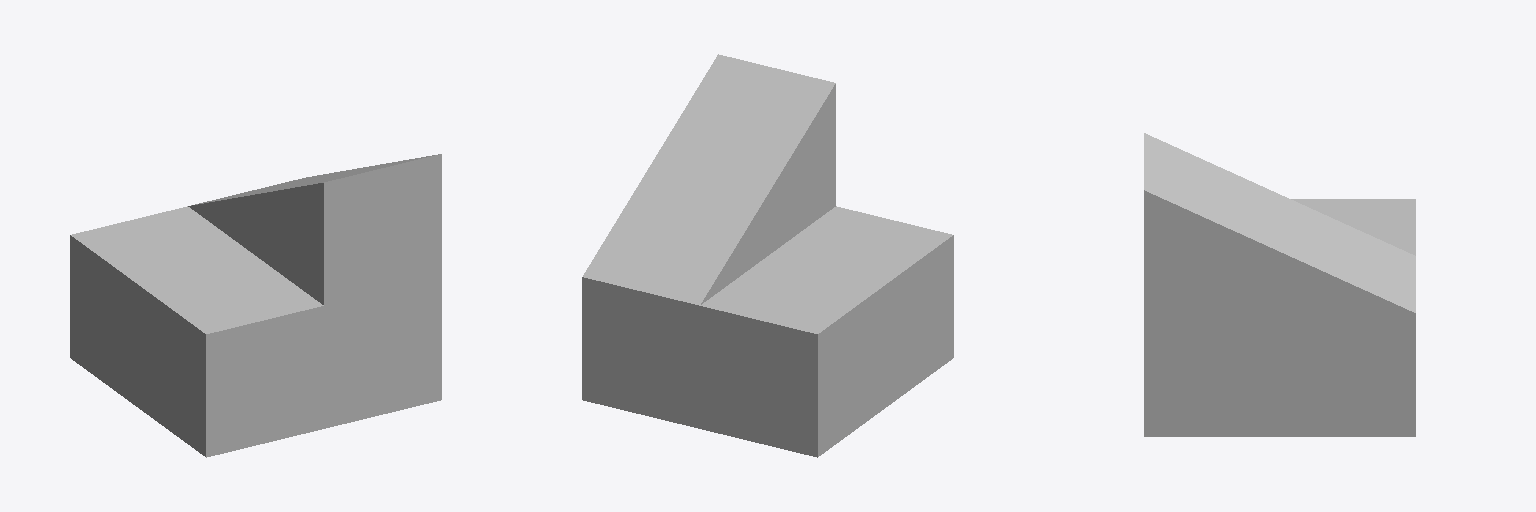
Rendered from diagsteps_52lv.obj.
3 renders of one model, left to right at view 1: azimuth 30°, elevation 25°; view 2: azimuth 150°, elevation 25°; view 3: azimuth 270°, elevation 25°, orthographic.
Size of the model in its own units: 1 by 1 by 1.